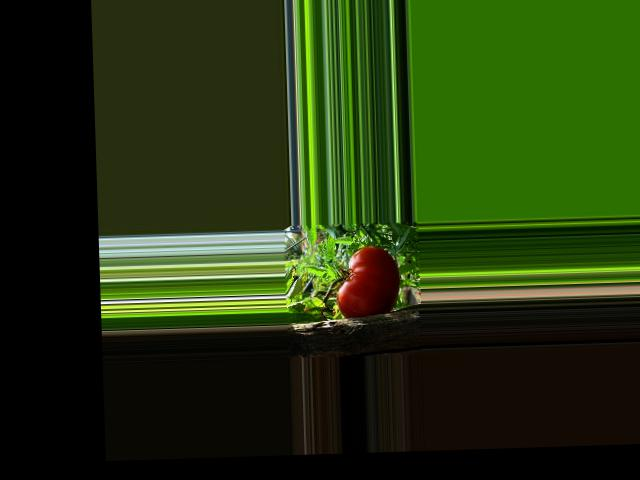tomato: (334, 245, 400, 319)
